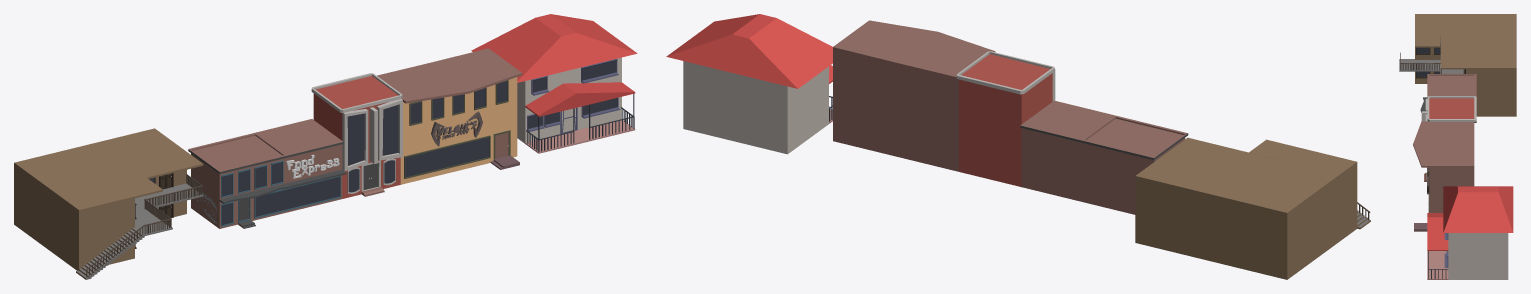
The model's file is OneRowBuilding (2).fbx.
3 views of the same model, side by side, from view 1: azimuth 30°, elevation 25°; view 2: azimuth 150°, elevation 25°; view 3: azimuth 270°, elevation 25° (orthographic). The views are drawn at different scales.
Visible parts, largest first — view 1: Onerow Building, Bobby's Appartment.006, Cube.048, Bobby's Appartment.137; view 2: Onerow Building, Bobby's Appartment.006, Cube.048; view 3: Bobby's Appartment.006, Cube.048, Onerow Building, Bobby's Appartment.137.
Boxes of the visible parts, left/top/right/bottom form: Onerow Building: left=188, top=48, right=522, bottom=228; Bobby's Appartment.006: left=14, top=128, right=203, bottom=270; Cube.048: left=471, top=14, right=637, bottom=153; Bobby's Appartment.137: left=76, top=174, right=203, bottom=279; Onerow Building: left=833, top=20, right=1188, bottom=214; Bobby's Appartment.006: left=1135, top=137, right=1357, bottom=279; Cube.048: left=666, top=14, right=832, bottom=154; Bobby's Appartment.006: left=1415, top=14, right=1516, bottom=116; Cube.048: left=1427, top=186, right=1513, bottom=279; Onerow Building: left=1413, top=74, right=1476, bottom=231; Bobby's Appartment.137: left=1399, top=52, right=1463, bottom=73.
Size of the model in its own units: 4124 by 629 by 919.
